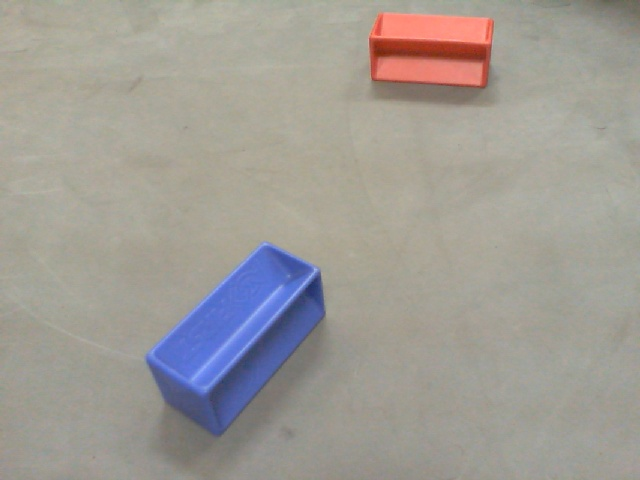BlueSample: (135, 239, 329, 436)
RedSample: (366, 10, 497, 91)
